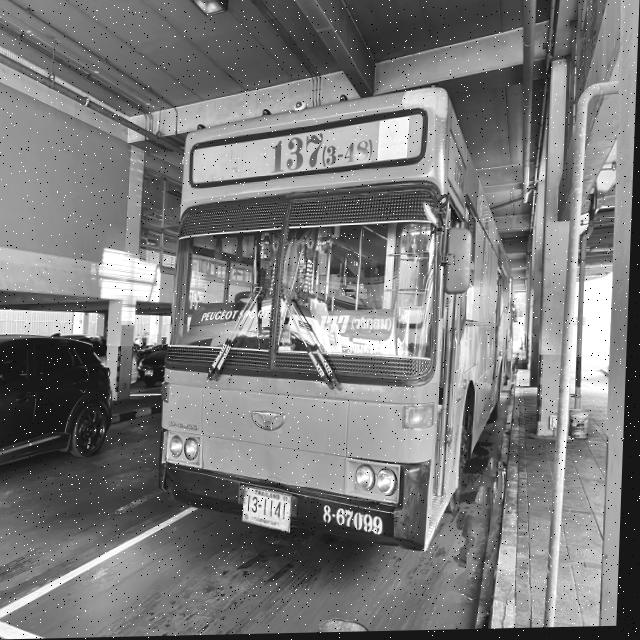BMTA-bus: (158, 88, 518, 559)
Bus-Line-Number: (272, 131, 379, 177)
Destination-Sign-Normal: (313, 314, 400, 361)
